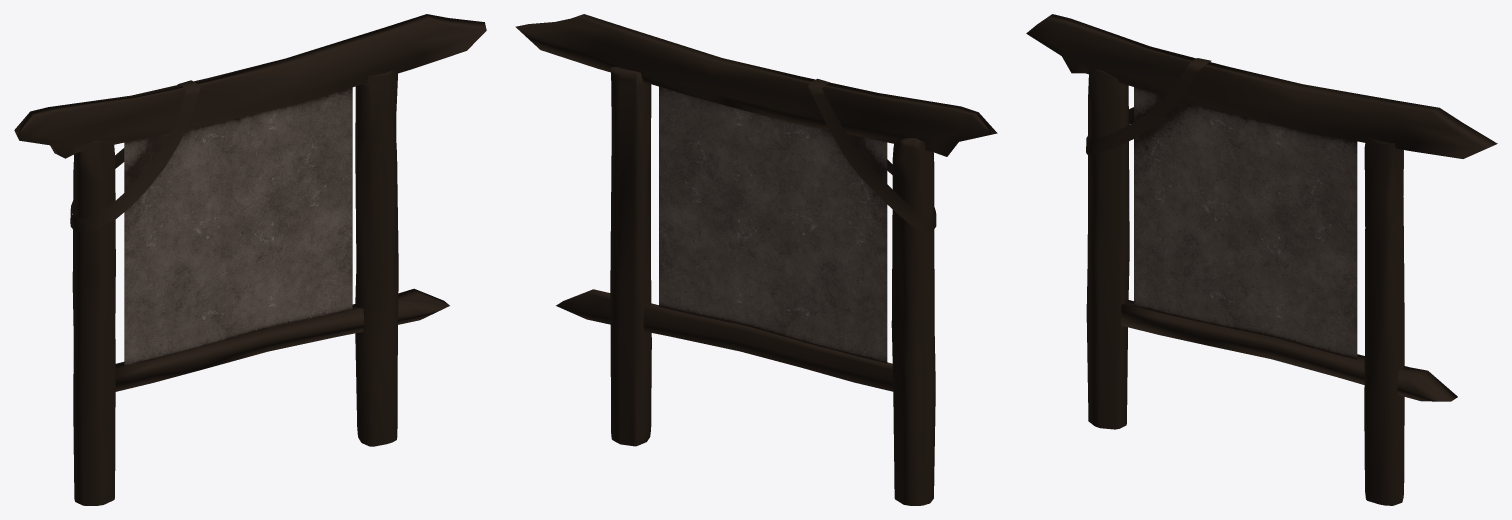
Rendered from kaba_01.fbx.
3 renders of one model, left to right at view 1: azimuth 30°, elevation 25°; view 2: azimuth 150°, elevation 25°; view 3: azimuth 330°, elevation 25°, orthographic. The views are drawn at different scales.
Parts seen in each view (by area): view 1: kaba_01; view 2: kaba_01; view 3: kaba_01.
Boxes of the visible parts, x1=… form: kaba_01: x1=14, y1=14, x2=486, y2=505; kaba_01: x1=515, y1=14, x2=997, y2=505; kaba_01: x1=1026, y1=14, x2=1497, y2=505.
Size of the model in its own units: 8.61 by 7.12 by 0.8369.
1 material, 1 textured.
